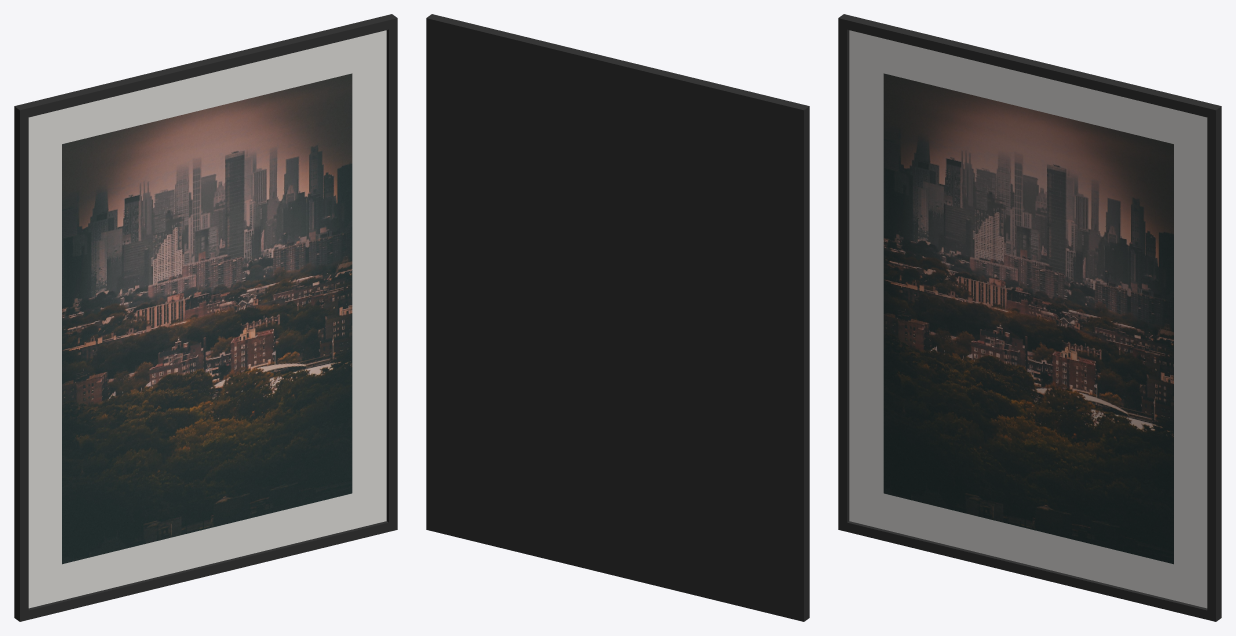
Rendered from skyline-dis-90.gltf.
3 renders of one model, left to right at view 1: azimuth 30°, elevation 25°; view 2: azimuth 150°, elevation 25°; view 3: azimuth 330°, elevation 25°, orthographic.
Parts seen in each view (by area): view 1: tavla; view 2: tavla; view 3: tavla.
Part boxes in pixels (x1,y1,x2,y2): tavla: (14,14,397,621); tavla: (426,14,809,621); tavla: (838,14,1221,621).
Bounding box in the file's own units: 0.8472 × 1.1 × 0.022.
3 materials, 1 textured.
